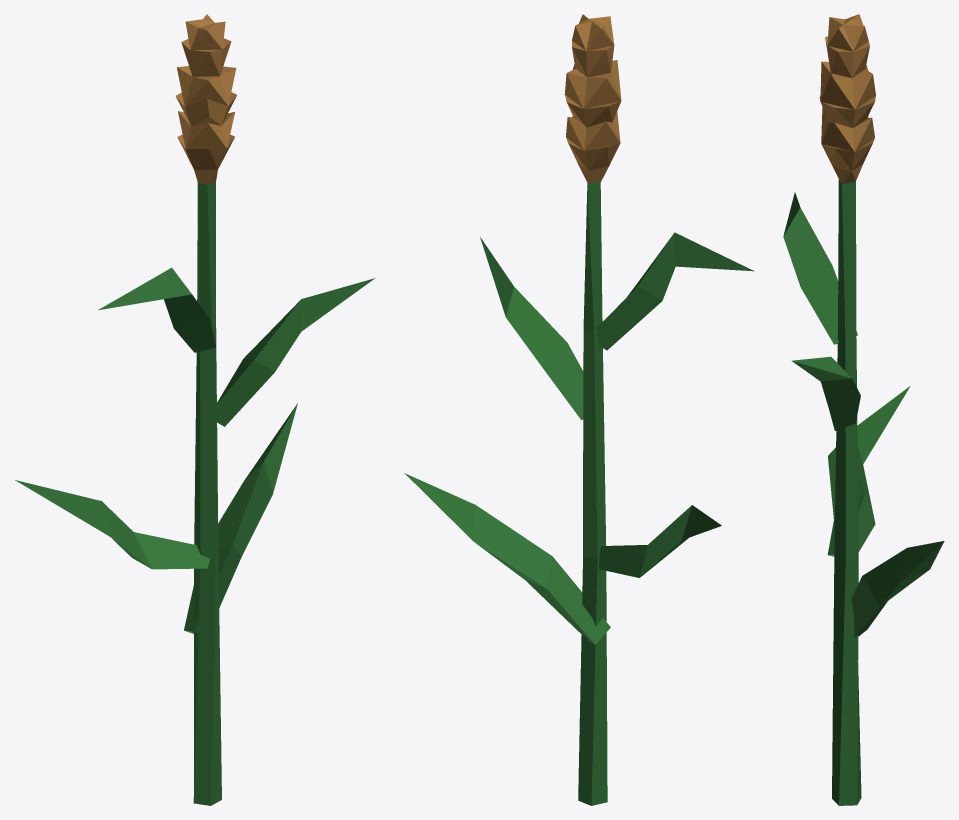
The model's file is nature_wheat-plant.fbx.
The picture shows the model from 3 angles, left to right: view 1: azimuth 30°, elevation 25°; view 2: azimuth 150°, elevation 25°; view 3: azimuth 270°, elevation 25°; orthographic projection.
Parts seen in each view (by area): view 1: nature_wheat_plant; view 2: nature_wheat_plant; view 3: nature_wheat_plant.
Boxes of the visible parts, <box> form: nature_wheat_plant: <box>15,14,375,805</box>; nature_wheat_plant: <box>404,14,754,805</box>; nature_wheat_plant: <box>783,14,944,805</box>.
Size of the model in its own units: 81.12 by 200 by 37.47.
